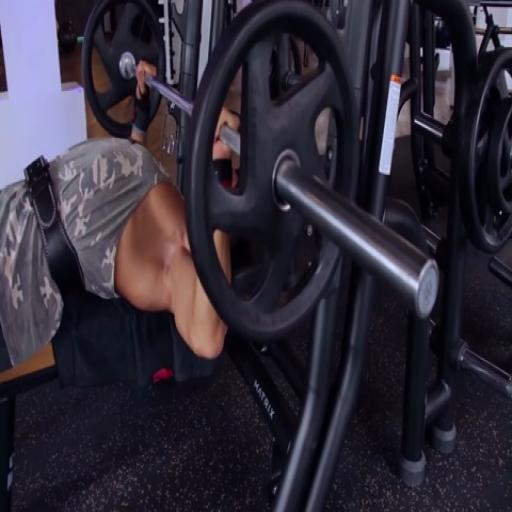exercise: (0, 56, 245, 382)
